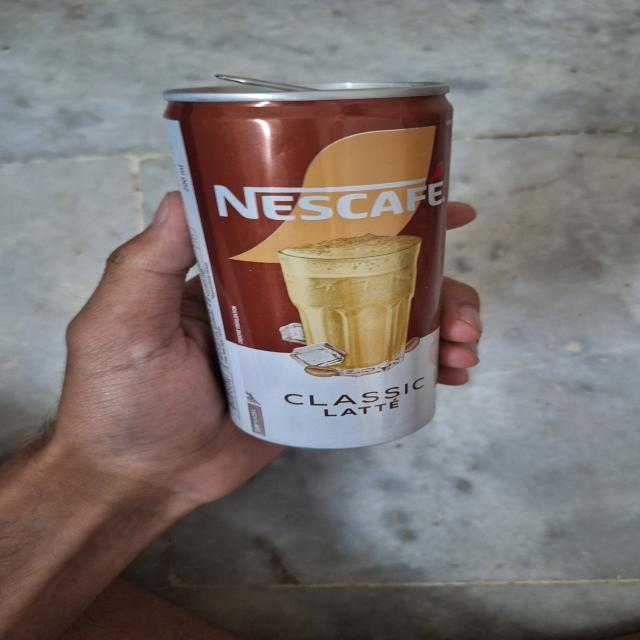Nescafe Classic Iced Latte: (170, 85, 463, 451)
